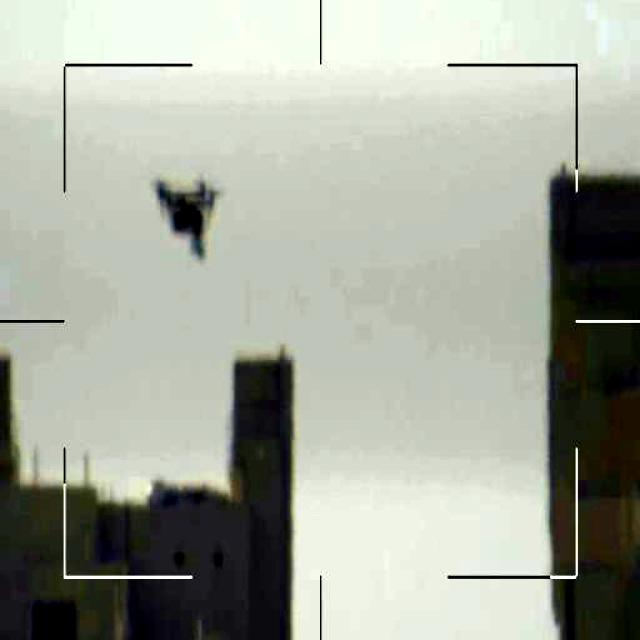bird: (156, 176, 218, 264)
